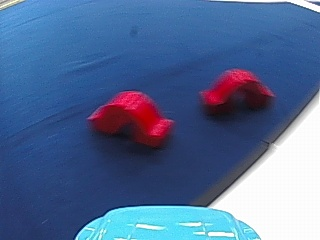bridge: (83, 86, 182, 148), (195, 64, 278, 118)
